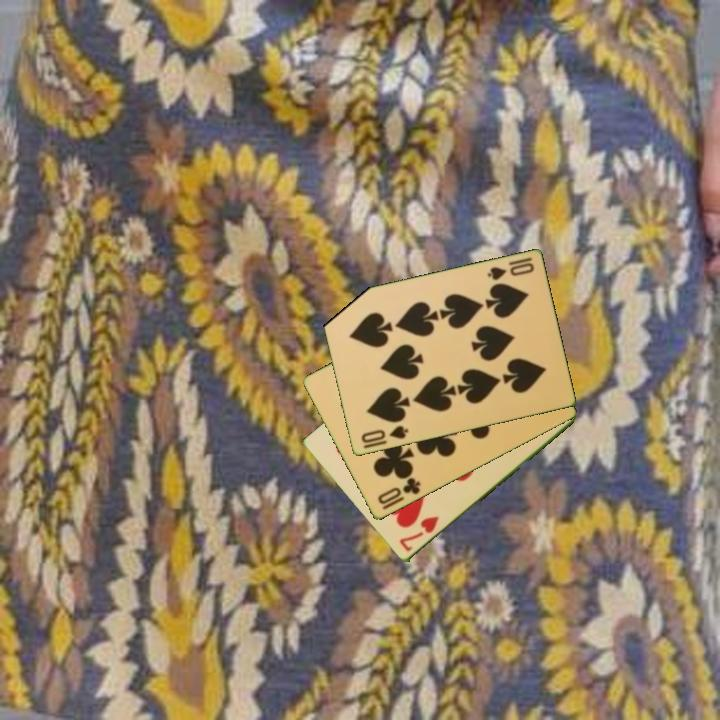10c: (374, 474, 423, 508)
10s: (483, 254, 537, 283), (358, 422, 411, 446)
7h: (396, 513, 442, 555)
